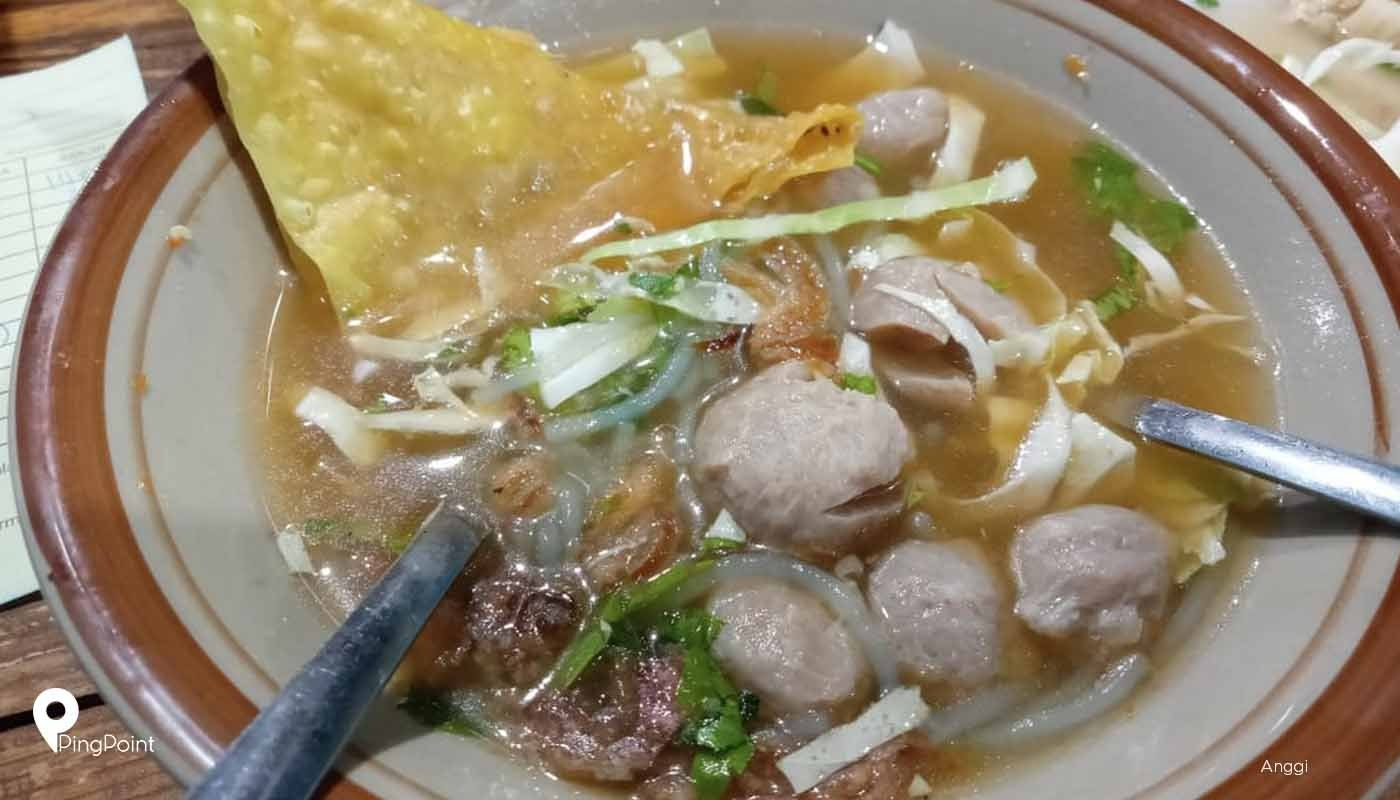bakso_malang: (180, 1, 1262, 800)
